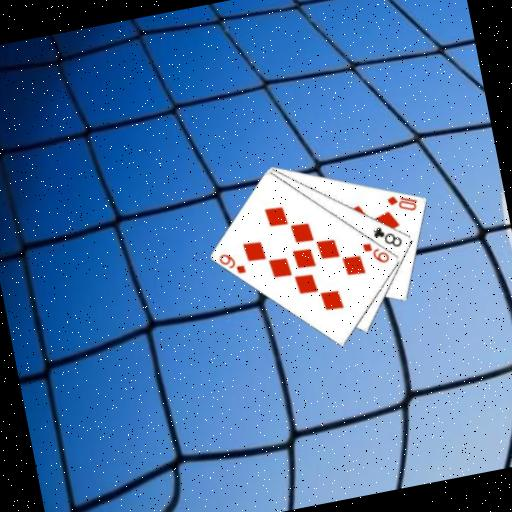10D: (383, 188, 421, 217)
8C: (369, 220, 405, 253)
9D: (215, 247, 249, 279), (359, 236, 392, 268)
